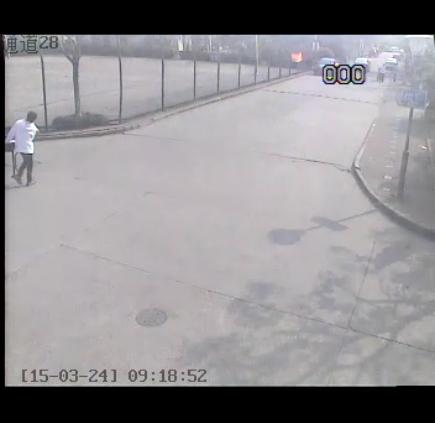person: (0, 100, 49, 199)
